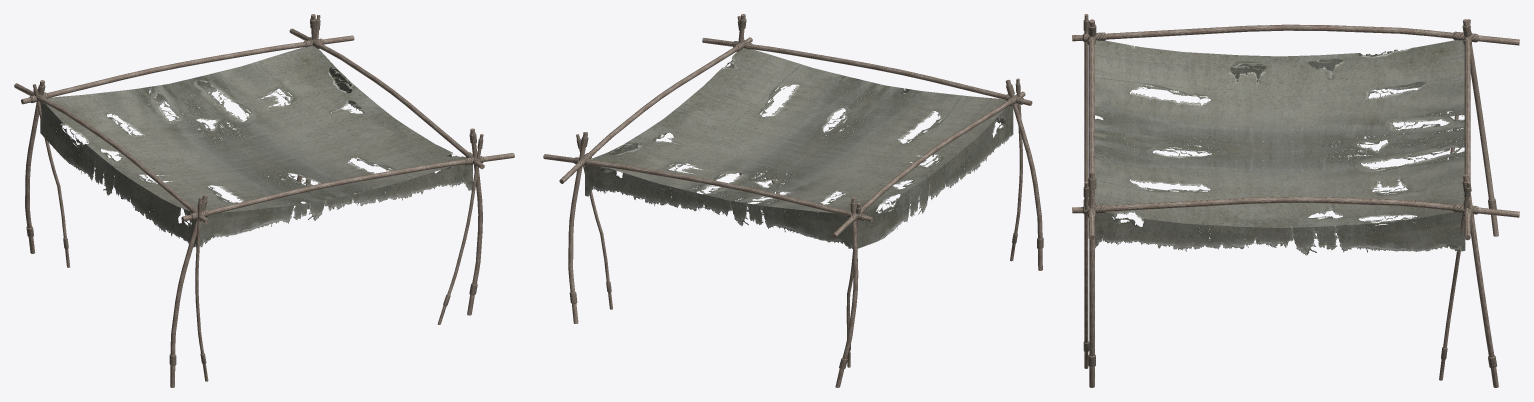
Rendered from teint.fbx.
3 renders of one model, left to right at view 1: azimuth 30°, elevation 25°; view 2: azimuth 150°, elevation 25°; view 3: azimuth 270°, elevation 25°, orthographic. The views are drawn at different scales.
Parts seen in each view (by area): view 1: Mesh; view 2: Mesh; view 3: Mesh.
Part boxes in pixels (bbox=[...]): Mesh: bbox=[14, 14, 514, 387]; Mesh: bbox=[543, 14, 1043, 387]; Mesh: bbox=[1072, 14, 1519, 387].
Size of the model in its own units: 723 by 372 by 696.
